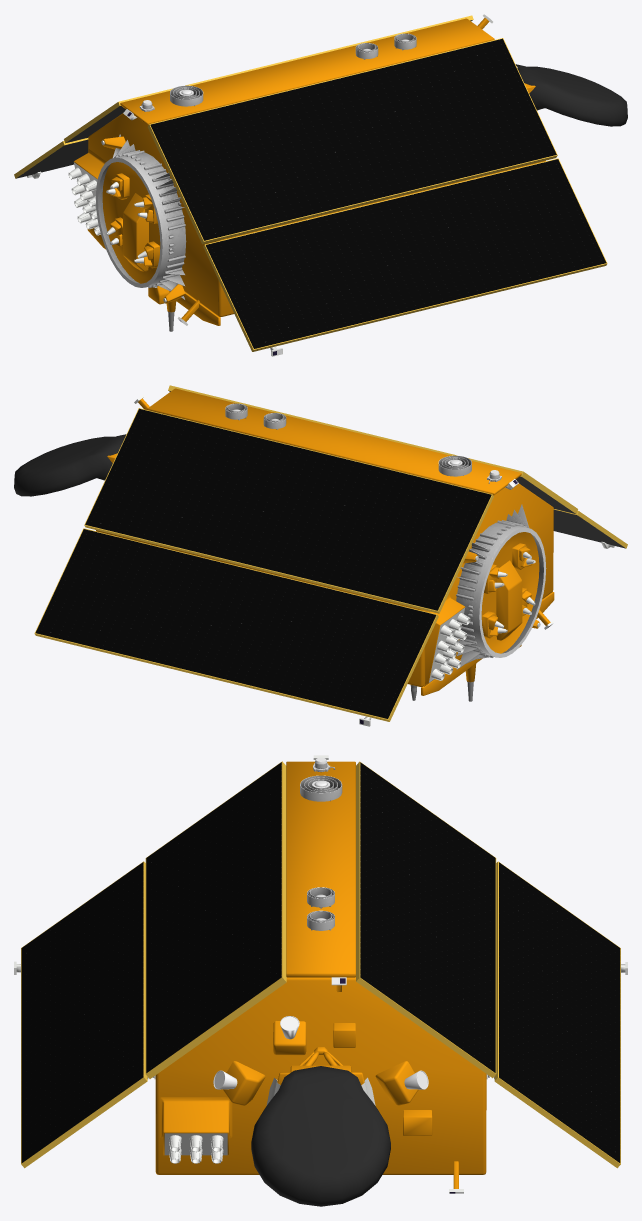
Rendered from sentinel6.glb.
The picture shows the model from 3 angles, top to bottom: view 1: azimuth 30°, elevation 25°; view 2: azimuth 150°, elevation 25°; view 3: azimuth 270°, elevation 25°; orthographic projection. The views are drawn at different scales.
Parts seen in each view (by area): view 1: array, BUS, GNSS_POD_RO_SPA; view 2: array, BUS, GNSS_POD_RO_SPA; view 3: array, BUS, GNSS_POD_RO_SPA.
Part boxes in pixels (x1,y1,x2,y2): array: [14, 15, 607, 351]; BUS: [16, 14, 627, 356]; GNSS_POD_RO_SPA: [95, 33, 416, 299]; array: [34, 385, 627, 721]; BUS: [14, 388, 625, 726]; GNSS_POD_RO_SPA: [225, 403, 546, 669]; array: [21, 761, 620, 1168]; BUS: [14, 755, 627, 1206]; GNSS_POD_RO_SPA: [300, 757, 342, 930].
Size of the model in its own units: 5.13 by 2.32 by 4.37.
8 materials, 8 textured.
